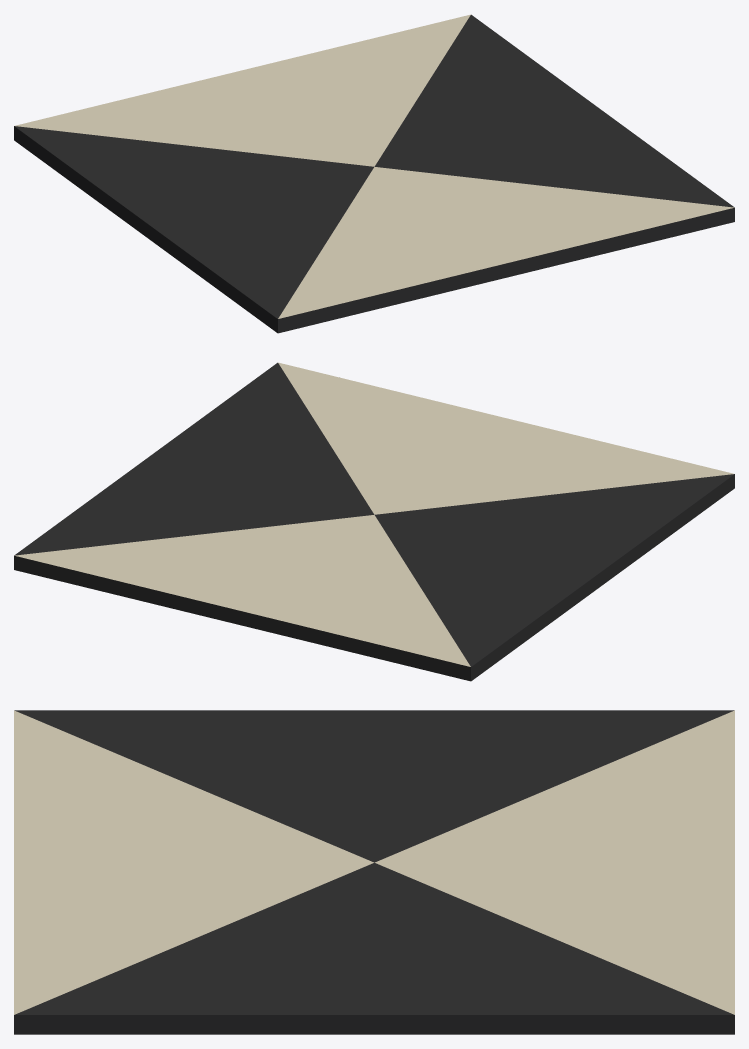
Rendered from Tile_Floor_01.glb.
The picture shows the model from 3 angles, top to bottom: view 1: azimuth 30°, elevation 25°; view 2: azimuth 150°, elevation 25°; view 3: azimuth 270°, elevation 25°; orthographic projection. The views are drawn at different scales.
Parts seen in each view (by area): view 1: Tile_Floor_01; view 2: Tile_Floor_01; view 3: Tile_Floor_01.
Part boxes in pixels (<box>): Tile_Floor_01: <box>14,14,734,333</box>; Tile_Floor_01: <box>14,362,734,681</box>; Tile_Floor_01: <box>14,710,734,1034</box>.
Size of what is drawn, in the model's own units: 1 by 0.03 by 1.
1 material, 1 textured.
